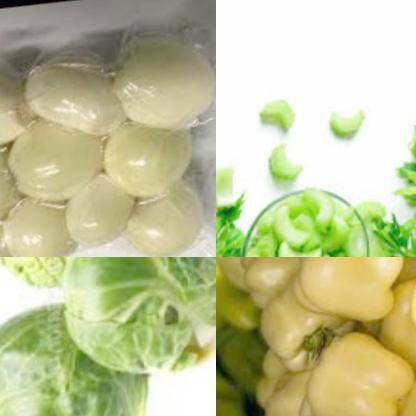bell pepper: (219, 257, 416, 416), (216, 257, 256, 416)
brus capusta: (55, 257, 216, 404), (0, 278, 146, 416), (0, 257, 175, 324)
celery: (240, 191, 368, 257), (354, 200, 416, 257), (395, 112, 416, 257), (257, 93, 302, 146), (326, 104, 373, 151), (265, 146, 303, 188), (216, 166, 243, 218)
onion: (0, 38, 216, 257)
